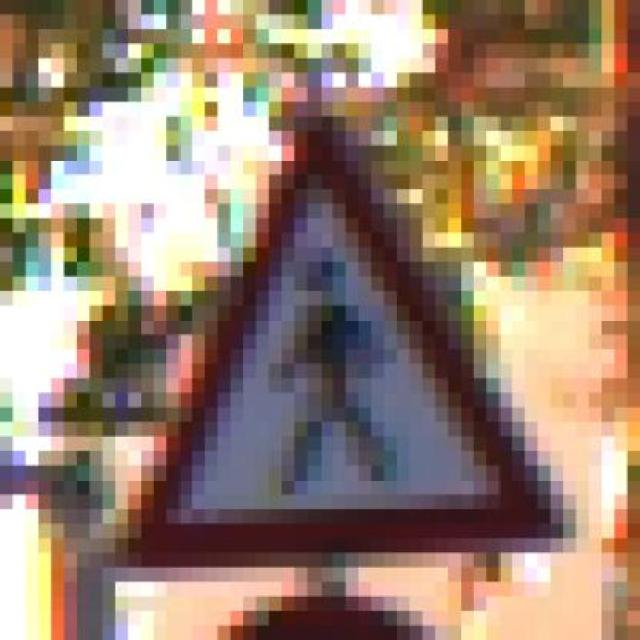Pedestrian Crossing: (90, 101, 588, 582)
